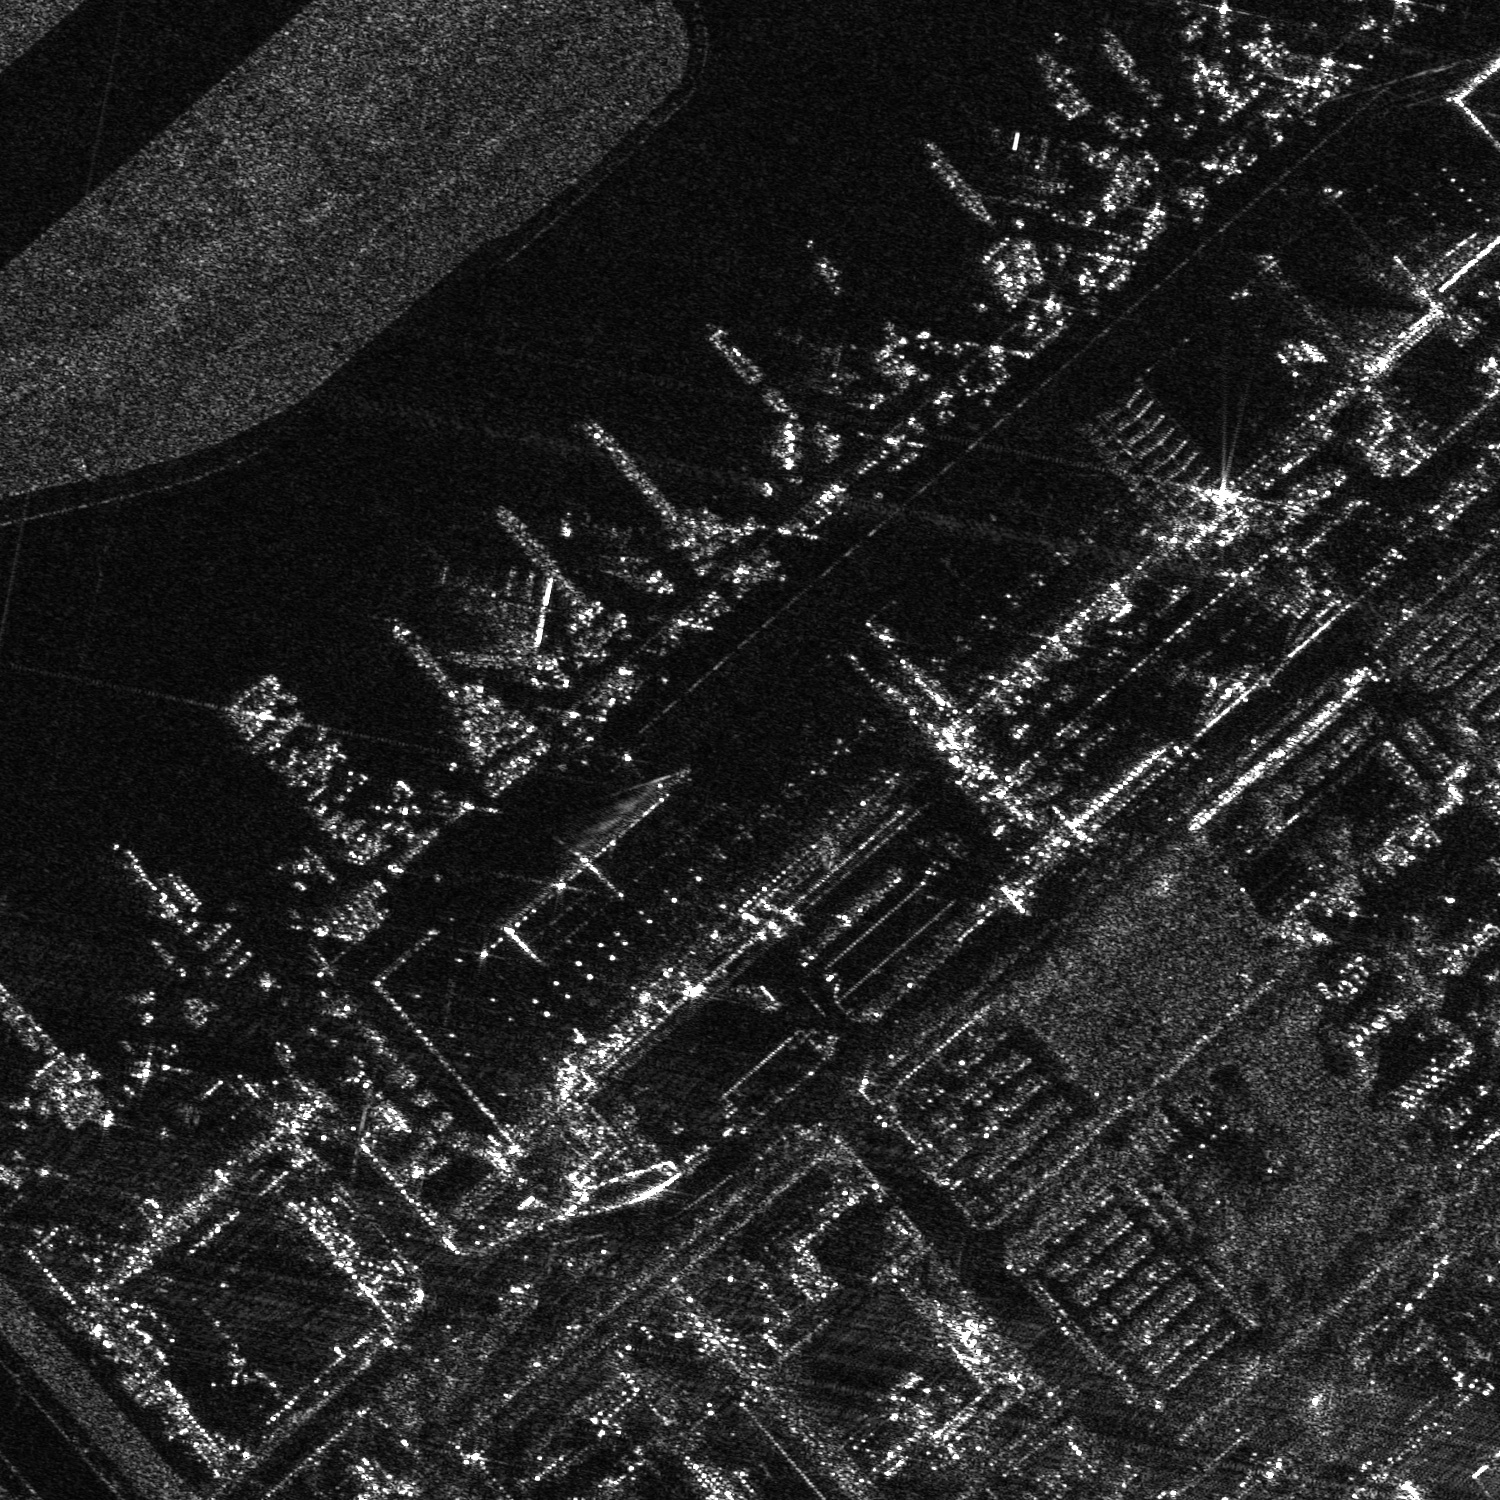Boeing787: (442, 562, 558, 673), (563, 505, 659, 582)
other: (988, 128, 1069, 212), (779, 328, 860, 401)
